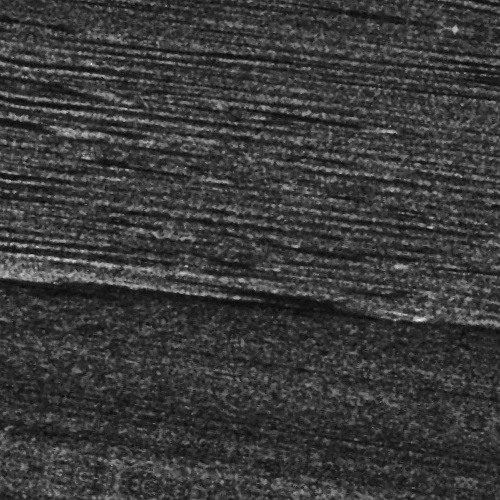object: (158, 180, 241, 187), (342, 105, 405, 112), (374, 236, 427, 241), (70, 197, 123, 200), (22, 154, 53, 157), (59, 113, 70, 120)
shadow: (63, 180, 199, 187), (245, 105, 373, 112), (274, 236, 400, 241), (0, 113, 64, 120), (1, 197, 96, 200), (0, 154, 38, 157)
